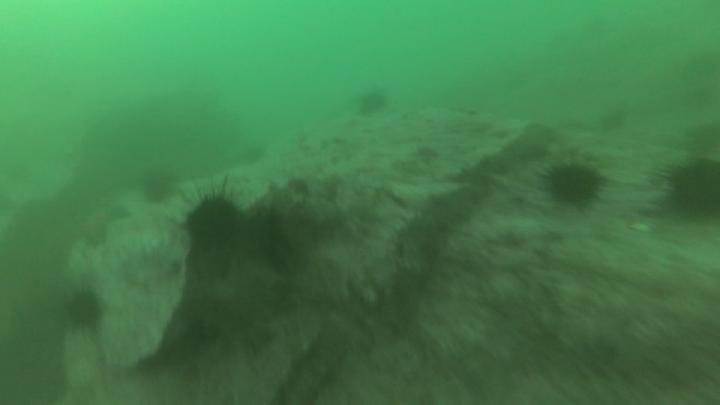echinus: (183, 189, 246, 255), (660, 153, 720, 222), (540, 157, 607, 211), (61, 286, 104, 333), (356, 88, 390, 119), (144, 175, 177, 206)
holothurian: (177, 253, 285, 342), (389, 211, 448, 279)
